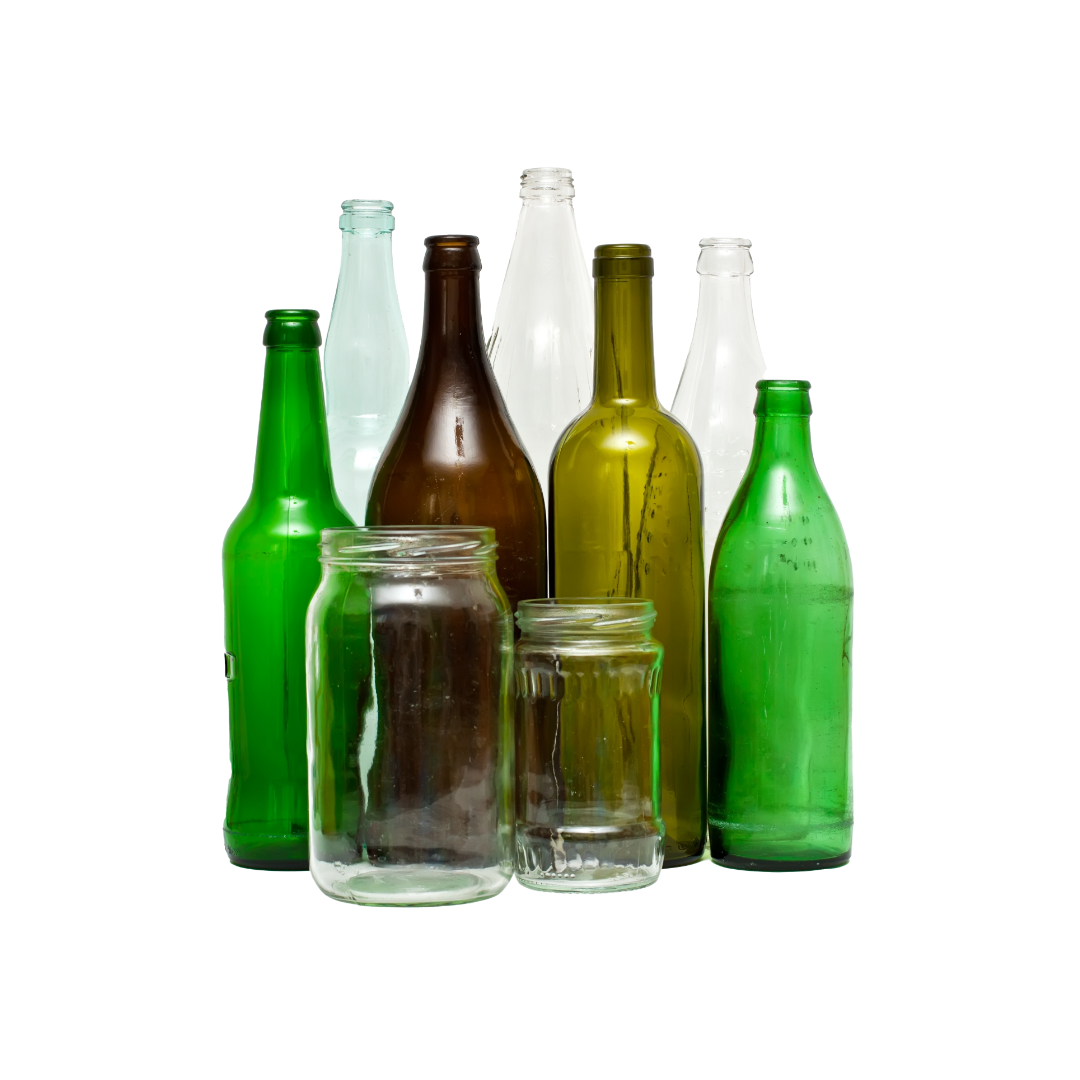glass_bottle: (189, 131, 893, 927)
